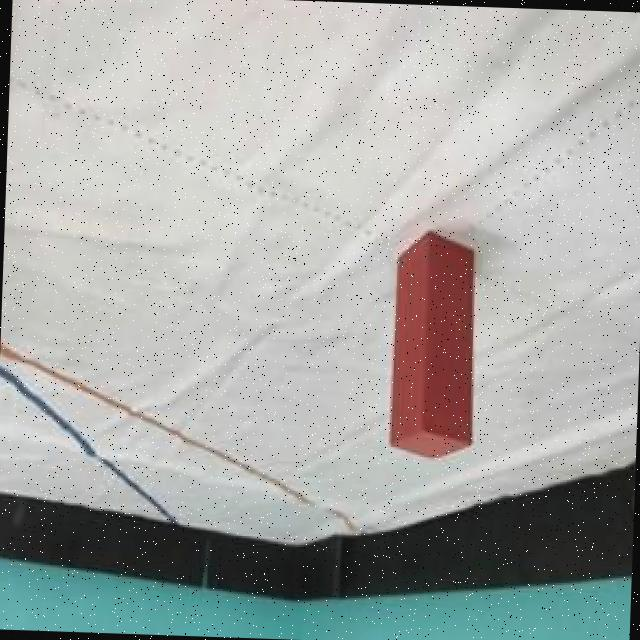redbox: (384, 229, 478, 462)
